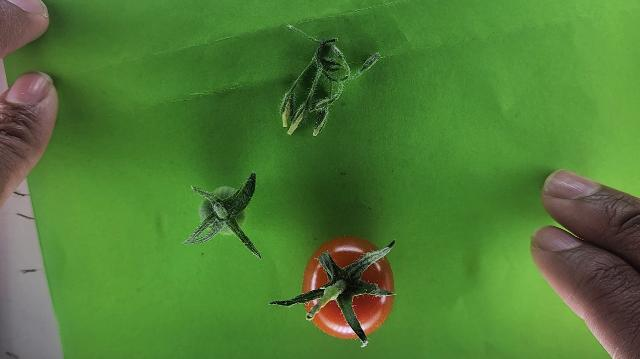Flower Bud: (356, 52, 381, 77), (282, 104, 289, 127)
Fruit Maturation: (200, 187, 248, 235)
Fully Grown: (299, 234, 397, 341)
